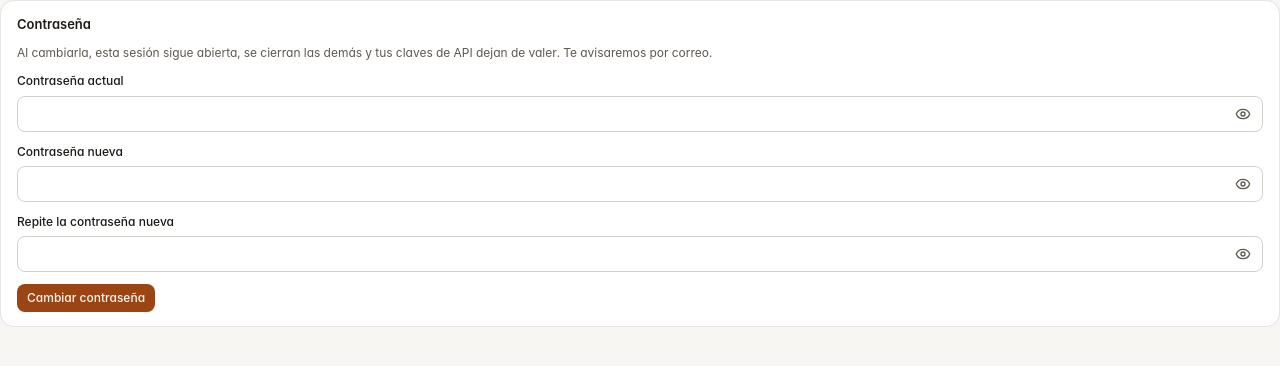
Test case: CambioContrasena › no envía si la confirmación no coincide
Type "Actual-2026-Segura" into the password field labelled "Contraseña actual" at (640, 114), box [17,96,1263,132]
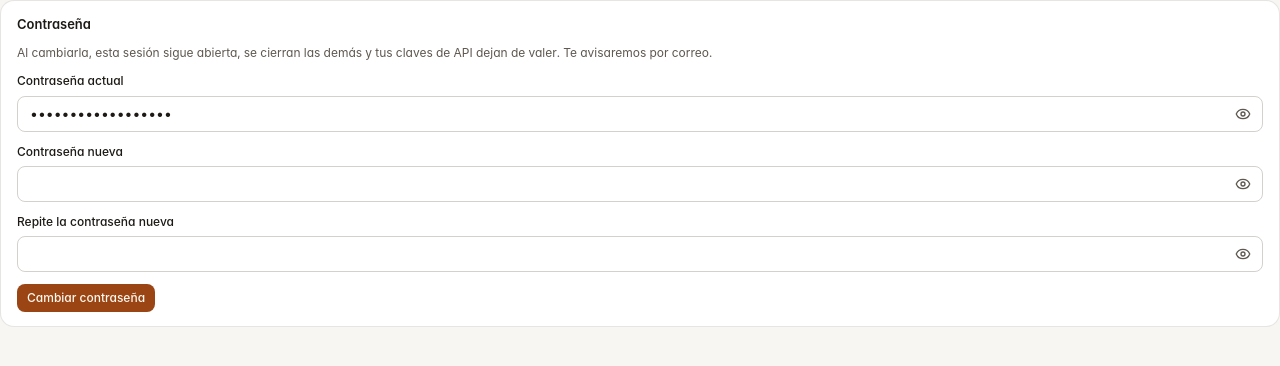
Type "Nueva-2026-Segura" into the password field labelled "Contraseña nueva" at (640, 184), box [17,166,1263,202]
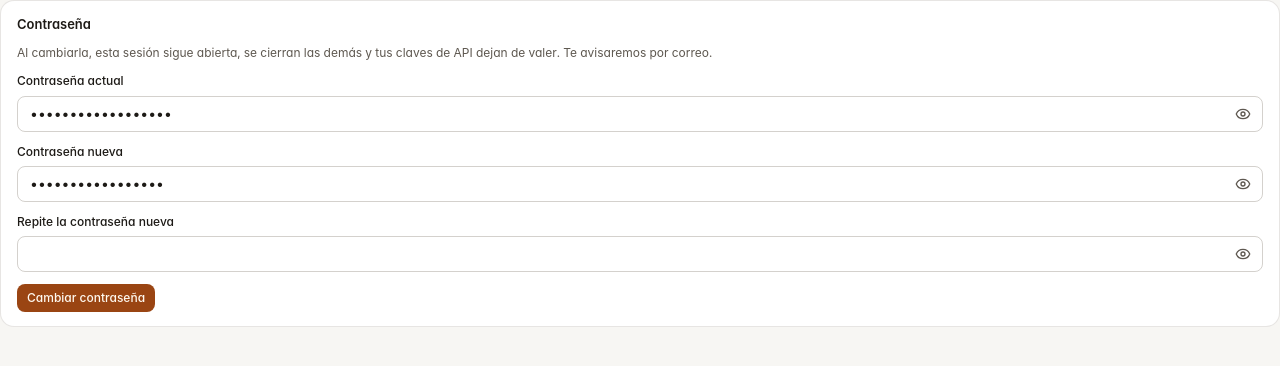
Type "Otra-2026-Segura" into the password field labelled "Repite la contraseña nueva" at (640, 254), box [17,236,1263,272]
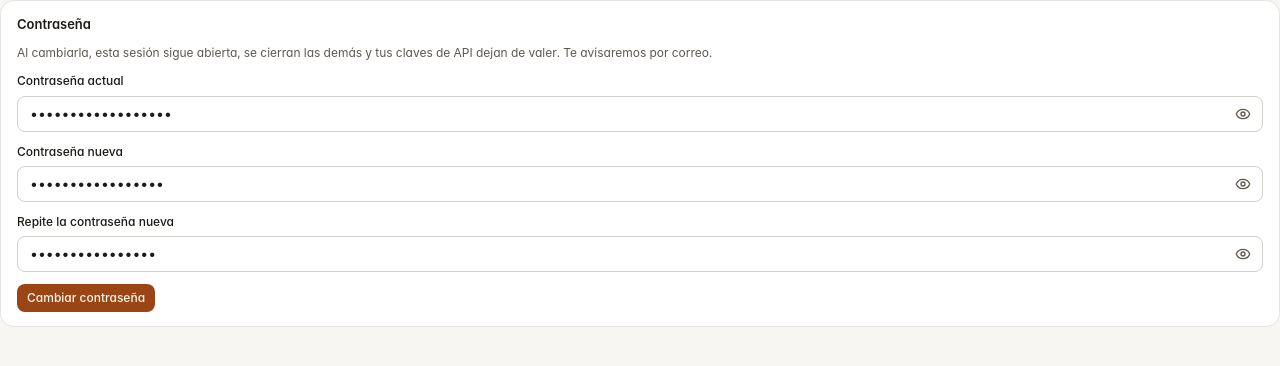
Click the button "Cambiar contraseña" at (86, 298), box [17,284,155,312]
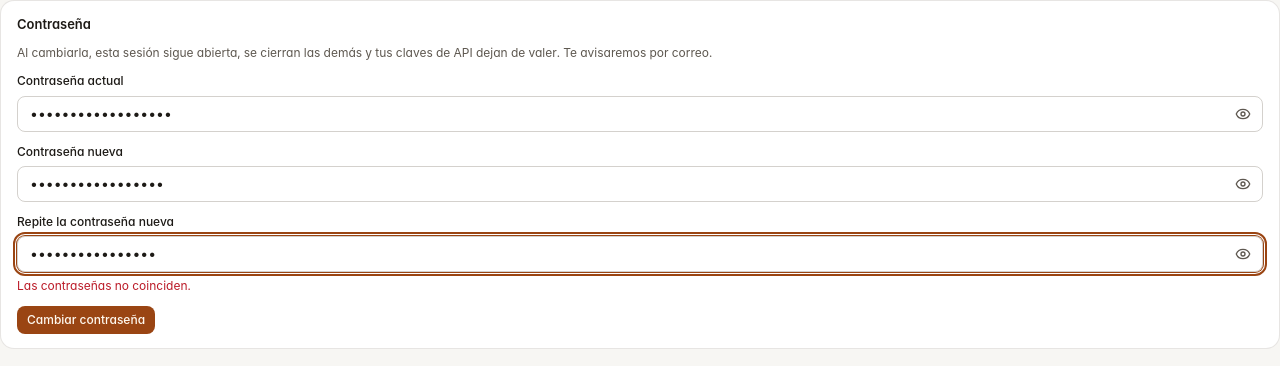
Expected: the text "Las contraseñas no coinciden." is shown, [17,278,191,293]
